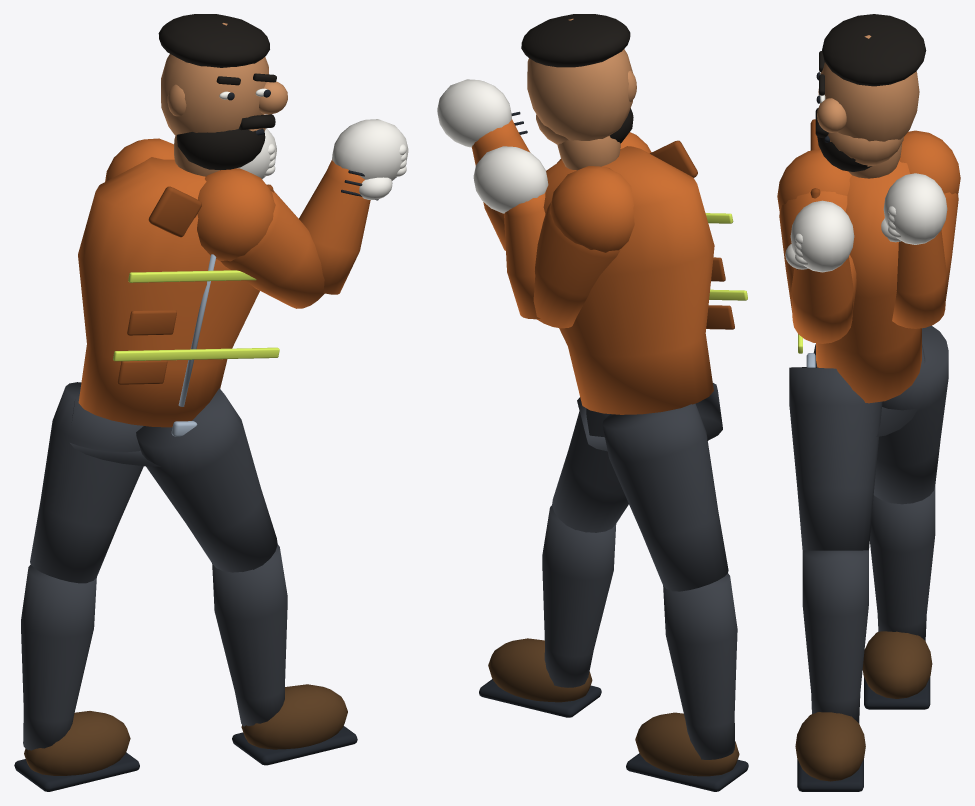
File: murat.glb
The picture shows the model from 3 angles, left to right: view 1: azimuth 30°, elevation 25°; view 2: azimuth 150°, elevation 25°; view 3: azimuth 270°, elevation 25°; orthographic projection. The views are drawn at different scales.
Visible parts, largest first — view 1: Fitted torso, Trouser thigh, Trouser thigh.001, Lower leg.001, Lower leg, Upper arm, Head, Rounded shoulder, Forearm, Hair crown, Boot, Boot.001 (+14 smaller); view 2: Fitted torso, Trouser thigh.001, Lower leg.001, Lower leg, Head, Rounded shoulder.001, Trouser thigh, Upper arm.001, Hair crown, Boot, Closed fist.001, Boot.001 (+9 smaller); view 3: Trouser thigh, Fitted torso, Lower leg, Trouser thigh.001, Lower leg.001, Hair crown, Head, Forearm, Forearm.001, Boot, Boot.001, Closed fist.001 (+12 smaller).
Part boxes in pixels (x1,y1,x2,y2): Fitted torso: (78, 157, 259, 427); Trouser thigh: (136, 388, 277, 572); Trouser thigh.001: (30, 382, 143, 583); Lower leg.001: (21, 565, 96, 750); Lower leg: (212, 544, 287, 726); Upper arm: (220, 191, 324, 308); Head: (161, 23, 268, 136); Rounded shoulder: (197, 168, 275, 261); Forearm: (299, 159, 370, 294); Hair crown: (158, 14, 269, 67); Boot: (241, 684, 347, 749); Boot.001: (24, 711, 130, 775); Fitted torso: (543, 146, 714, 414); Trouser thigh.001: (602, 403, 728, 591); Lower leg.001: (663, 573, 737, 759); Lower leg: (542, 505, 616, 687); Head: (527, 18, 632, 140); Rounded shoulder.001: (550, 166, 634, 252); Trouser thigh: (552, 408, 628, 532); Upper arm.001: (533, 202, 620, 328); Hair crown: (521, 14, 630, 67); Boot: (488, 638, 592, 702); Closed fist.001: (473, 146, 548, 213); Boot.001: (635, 712, 739, 776); Trouser thigh: (789, 367, 882, 550); Fitted torso: (816, 161, 921, 403); Lower leg: (802, 550, 868, 723); Trouser thigh.001: (873, 325, 948, 504); Lower leg.001: (869, 486, 935, 640); Hair crown: (822, 14, 926, 86); Head: (818, 35, 919, 141); Forearm: (791, 257, 853, 343); Forearm.001: (892, 230, 946, 328); Boot: (795, 712, 865, 781); Boot.001: (862, 631, 932, 698); Closed fist.001: (883, 173, 947, 244).
Size of the model in its own units: 75.95 by 156 by 35.88.
